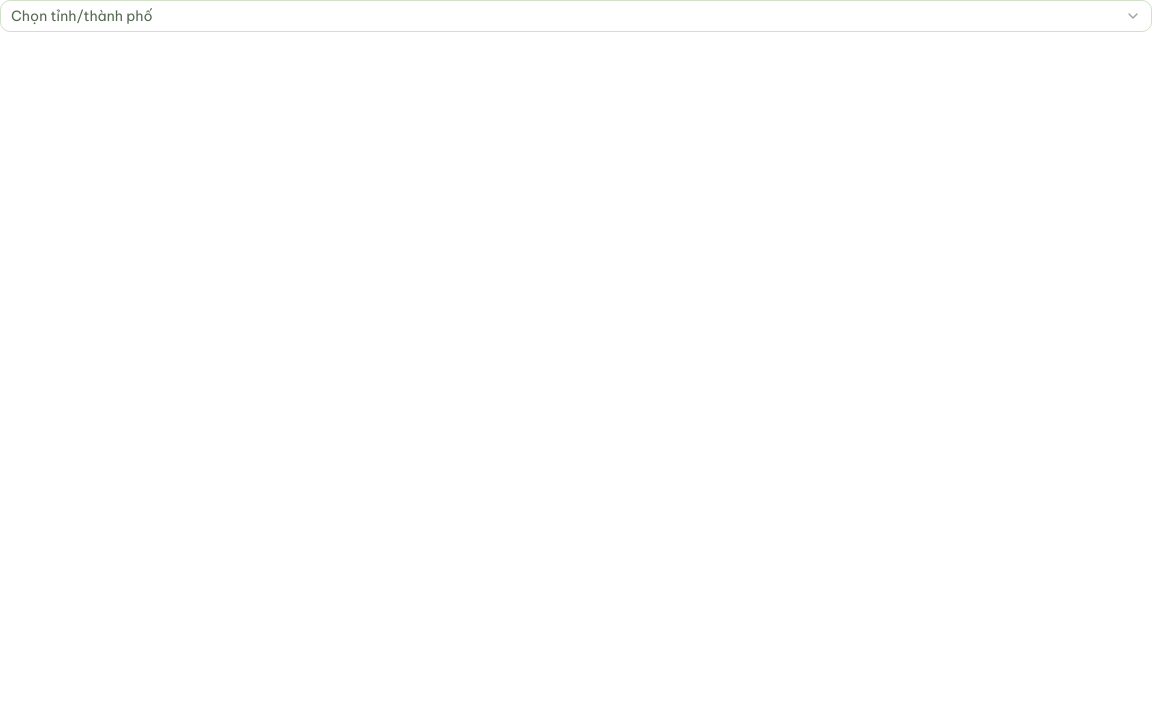
Test: navigates filtered options with ArrowDown/ArrowUp and selects the active option with Enter
The width and height of the screenshot is (1152, 720).
Click the button "Chọn tỉnh/thành phố". click: (82, 16)
box: [0,0,1151,32]
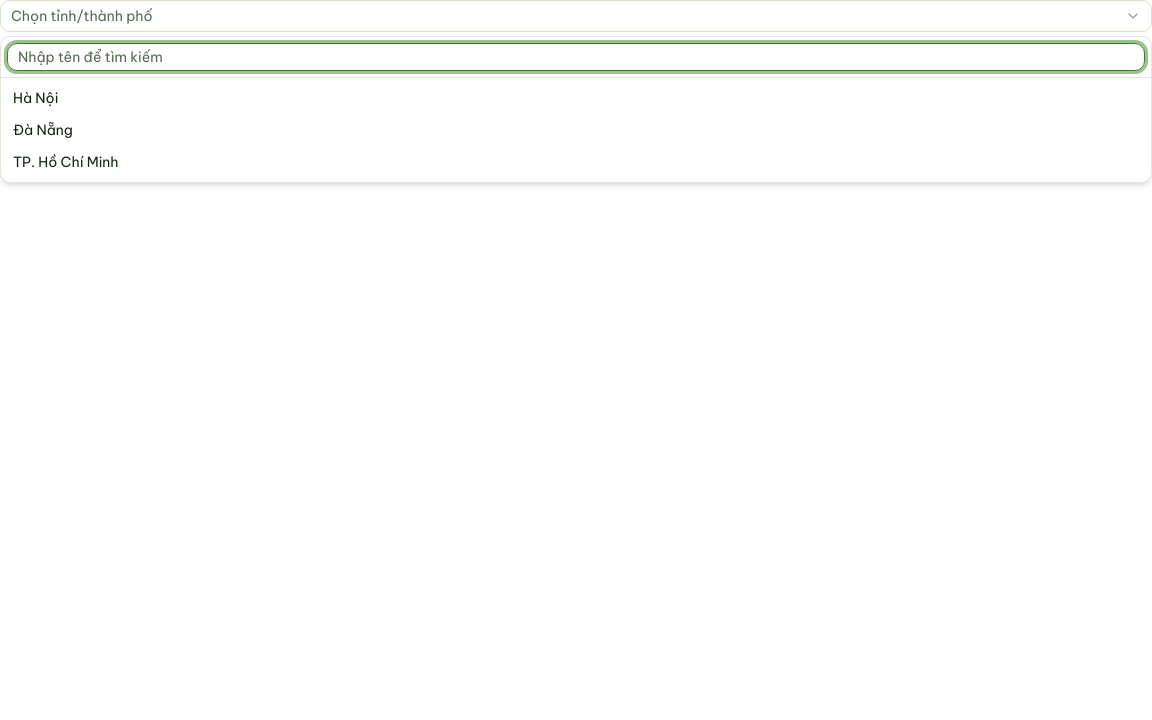
Now the number of options is 3, box [5,82,1147,114]; [5,114,1147,146]; [5,146,1147,178]
Press Arrowdown
Press Arrowup
Press Arrowdown Arrowdown
Press Enter
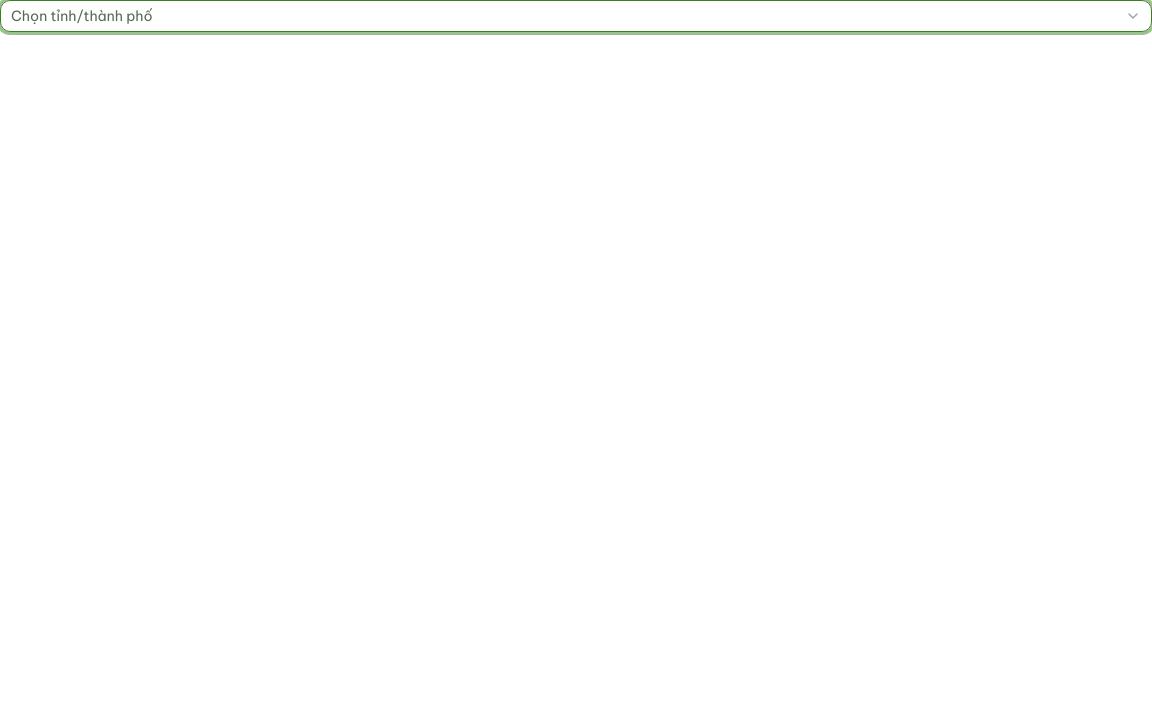
Now the list is gone
